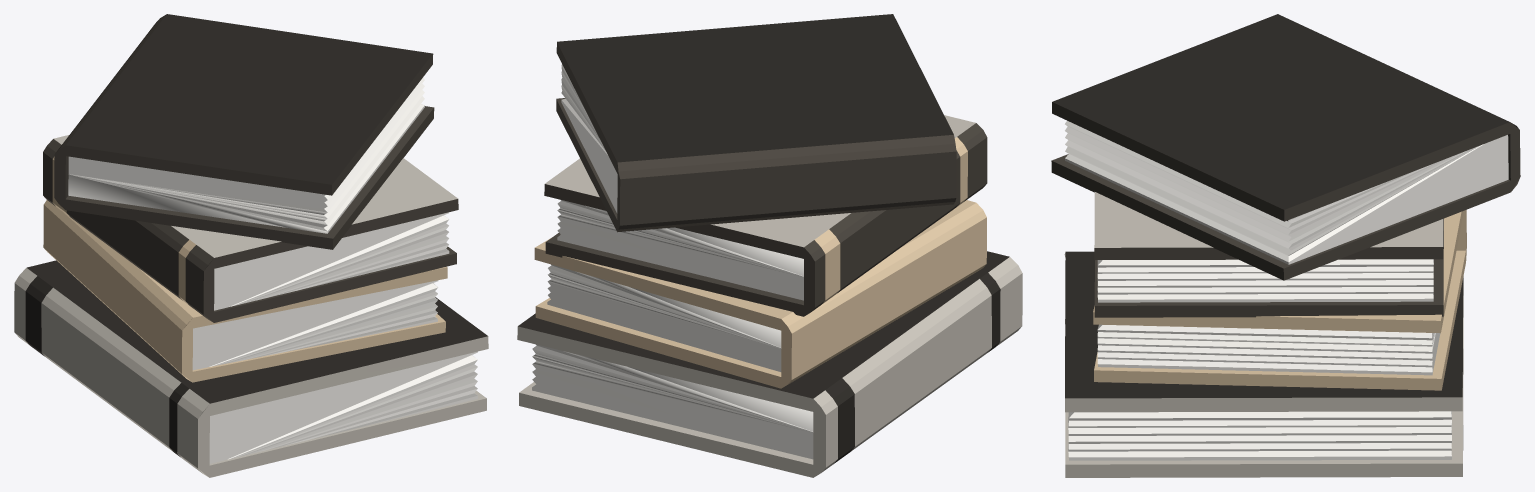
File: book-stack.glb
The picture shows the model from 3 angles, left to right: view 1: azimuth 30°, elevation 25°; view 2: azimuth 150°, elevation 25°; view 3: azimuth 270°, elevation 25°; orthographic projection. The views are drawn at different scales.
Parts seen in each view (by area): view 1: book-stack; view 2: book-stack; view 3: book-stack.
Boxes of the visible parts, x1,y1,x2,y2 form: book-stack: (14, 14, 488, 477); book-stack: (517, 14, 1022, 477); book-stack: (1051, 14, 1520, 477).
Size of the model in its own units: 0.289 by 0.2 by 0.2874.
